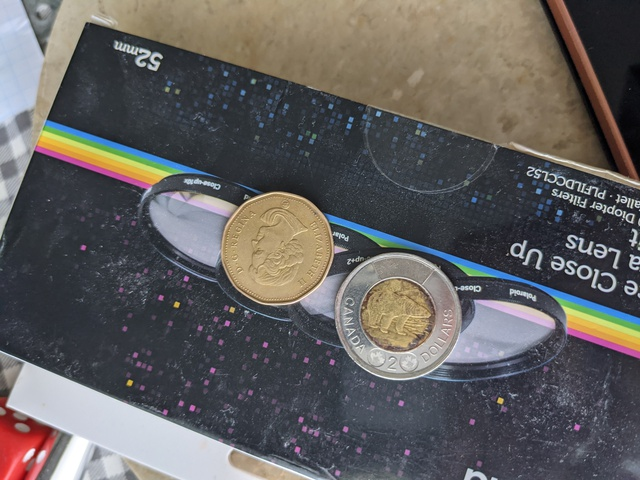loonie: (224, 188, 335, 304)
twonie: (329, 254, 466, 375)
